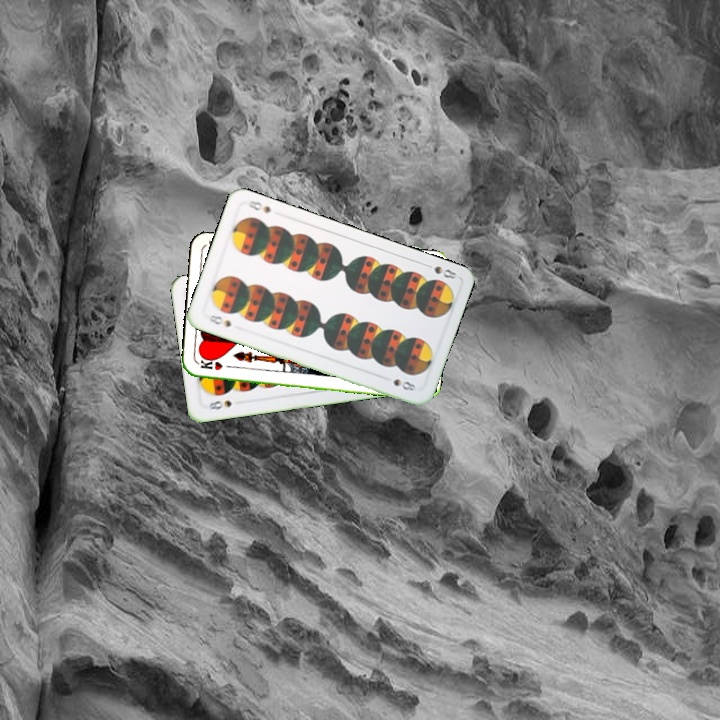HK: (196, 357, 237, 373)
S8: (420, 259, 459, 282), (204, 311, 234, 330), (205, 396, 234, 412)
